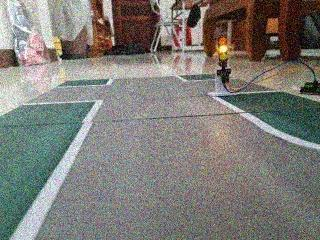yellow: (211, 30, 236, 69)
